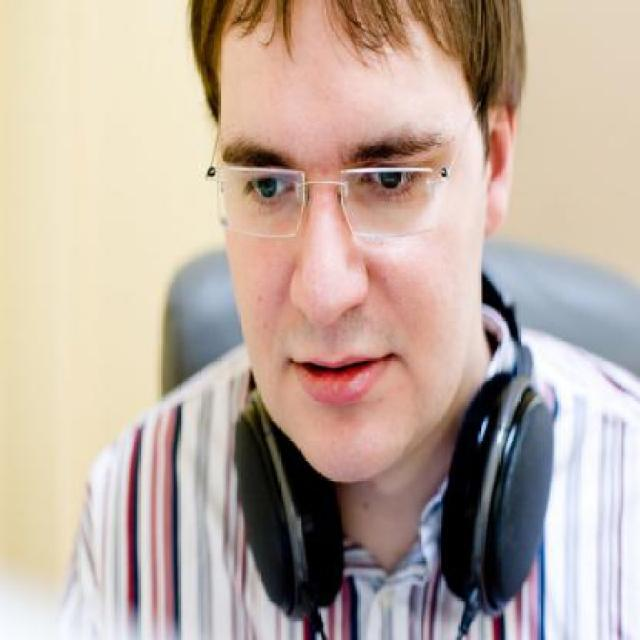earphone: (207, 360, 568, 620)
